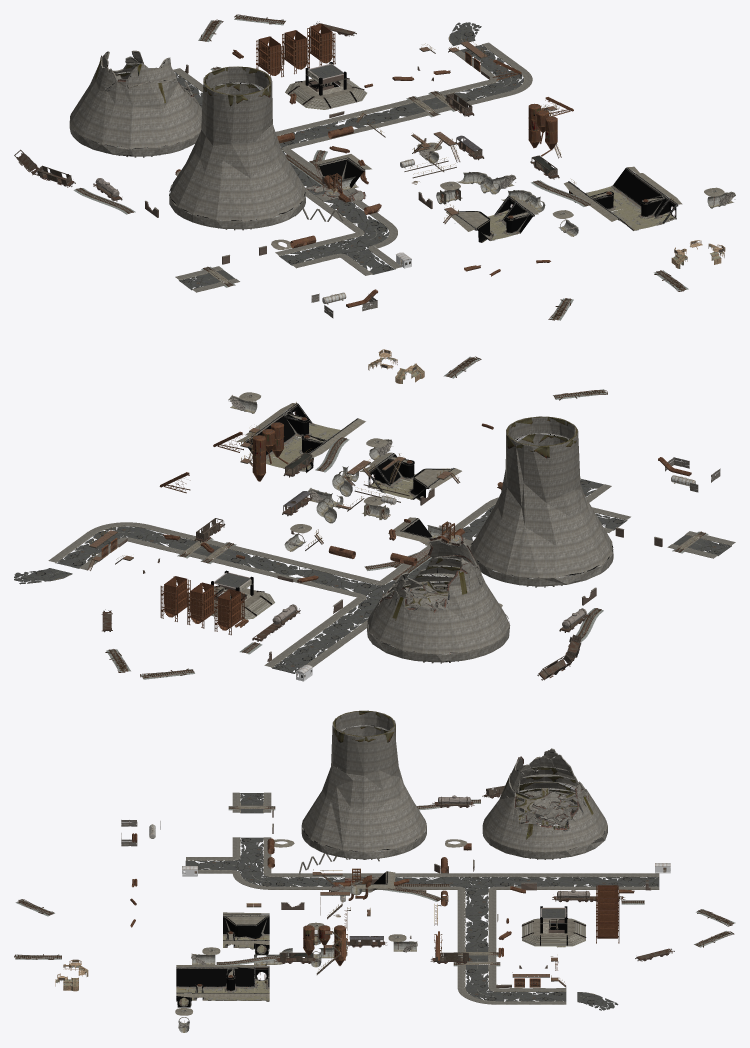
File: powerplant_1-mid.glb
The picture shows the model from 3 angles, top to bottom: view 1: azimuth 30°, elevation 25°; view 2: azimuth 150°, elevation 25°; view 3: azimuth 270°, elevation 25°; orthographic projection. The views are drawn at different scales.
Visible parts, largest first — view 1: cooling_tower_exterior_collapsed_LOD0, road_9x15_railway_LOD0, sewer_drainwall_600_LOD0, pipeline_200x600_LOD0, pipeline_300x600_end_LOD0, pipeline_300x600_up300_gnd, sewer_tunnel_600_end_LOD0, industrial_storage_tank_a_LOD0, train_wagon_a_LOD0, stairs_300x600_single, silo_b_LOD0, wall_300x900_collapsed_LOD0 (+1 smaller); view 2: cooling_tower_exterior_collapsed_LOD0, road_9x15_railway_LOD0, sewer_drainwall_600_LOD0, pipeline_200x600_LOD0, train_wagon_a_LOD0, pipeline_300x600_end_LOD0, industrial_storage_tank_a_LOD0, pipeline_300x600_up300_gnd, sewer_tunnel_600_end_LOD0, stairs_300x600_single, silo_b_LOD0, wall_300x900_collapsed_LOD0 (+1 smaller); view 3: cooling_tower_exterior_collapsed_LOD0, road_9x15_railway_LOD0, sewer_drainwall_600_LOD0, pipeline_300x600_end_LOD0, train_wagon_a_LOD0, pipeline_300x600_up300_gnd, pipeline_200x600_LOD0, sewer_tunnel_600_end_LOD0, stairs_300x600_single, industrial_storage_tank_a_LOD0, silo_b_LOD0, wall_300x900_collapsed_LOD0 (+1 smaller).
Boxes of the visible parts, bbox=[...] form: cooling_tower_exterior_collapsed_LOD0: bbox=[69, 51, 676, 240]; road_9x15_railway_LOD0: bbox=[73, 14, 688, 320]; sewer_drainwall_600_LOD0: bbox=[288, 62, 723, 268]; pipeline_200x600_LOD0: bbox=[175, 24, 570, 307]; pipeline_300x600_end_LOD0: bbox=[70, 24, 735, 275]; pipeline_300x600_up300_gnd: bbox=[176, 142, 724, 249]; sewer_tunnel_600_end_LOD0: bbox=[332, 143, 735, 236]; industrial_storage_tank_a_LOD0: bbox=[256, 24, 334, 75]; train_wagon_a_LOD0: bbox=[14, 21, 559, 201]; stairs_300x600_single: bbox=[342, 38, 675, 223]; silo_b_LOD0: bbox=[493, 59, 573, 156]; wall_300x900_collapsed_LOD0: bbox=[145, 64, 490, 264]; cooling_tower_exterior_collapsed_LOD0: bbox=[253, 413, 613, 663]; road_9x15_railway_LOD0: bbox=[14, 356, 735, 679]; sewer_drainwall_600_LOD0: bbox=[211, 357, 457, 615]; pipeline_200x600_LOD0: bbox=[160, 423, 691, 635]; train_wagon_a_LOD0: bbox=[101, 453, 589, 680]; pipeline_300x600_end_LOD0: bbox=[161, 394, 613, 663]; industrial_storage_tank_a_LOD0: bbox=[161, 576, 243, 630]; pipeline_300x600_up300_gnd: bbox=[236, 392, 502, 607]; sewer_tunnel_600_end_LOD0: bbox=[228, 394, 451, 551]; stairs_300x600_single: bbox=[87, 402, 460, 570]; silo_b_LOD0: bbox=[159, 422, 288, 486]; wall_300x900_collapsed_LOD0: bbox=[118, 487, 662, 661]; cooling_tower_exterior_collapsed_LOD0: bbox=[176, 710, 607, 1004]; road_9x15_railway_LOD0: bbox=[14, 792, 735, 1010]; sewer_drainwall_600_LOD0: bbox=[56, 871, 586, 1007]; pipeline_300x600_end_LOD0: bbox=[131, 725, 633, 1026]; train_wagon_a_LOD0: bbox=[275, 785, 674, 963]; pipeline_300x600_up300_gnd: bbox=[175, 839, 467, 1015]; pipeline_200x600_LOD0: bbox=[130, 833, 634, 957]; sewer_tunnel_600_end_LOD0: bbox=[178, 881, 417, 1032]; stairs_300x600_single: bbox=[179, 869, 566, 991]; industrial_storage_tank_a_LOD0: bbox=[596, 885, 618, 938]; silo_b_LOD0: bbox=[303, 925, 439, 965]; wall_300x900_collapsed_LOD0: bbox=[272, 807, 650, 987].
Bounding box in the file's own units: 211 × 58.2 × 279.
Materials: 48 (48 with a texture image).
